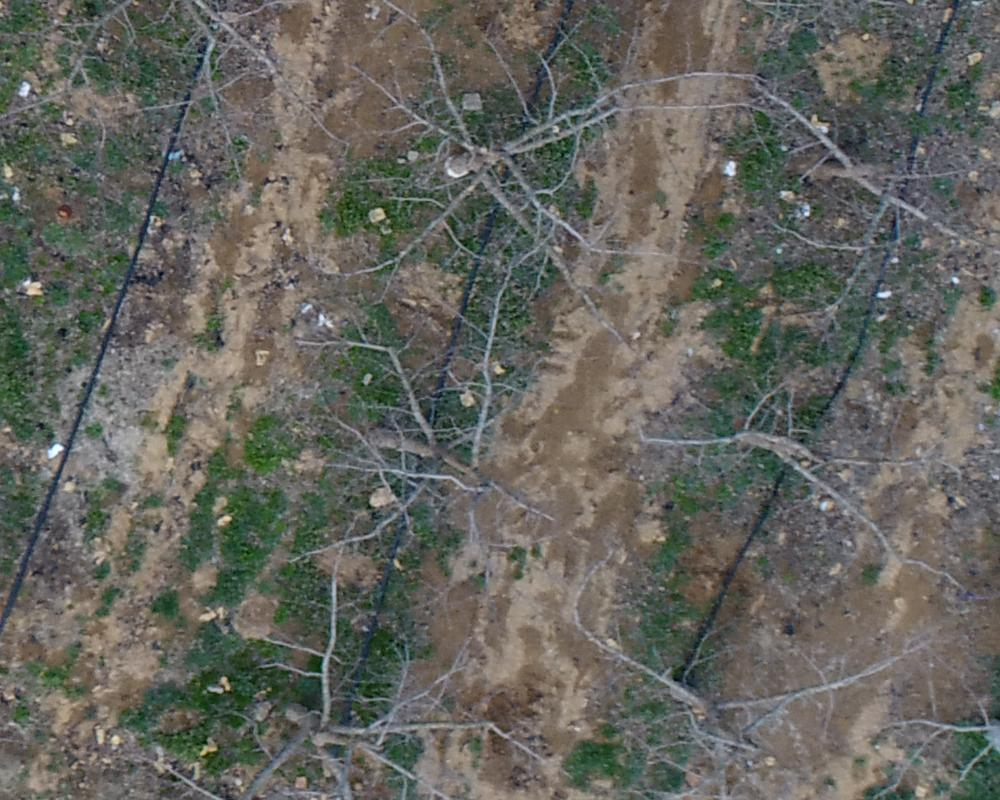apple: (343, 10, 701, 320), (308, 260, 584, 579), (197, 522, 496, 790), (652, 344, 965, 592), (555, 589, 909, 790), (722, 69, 990, 326)
